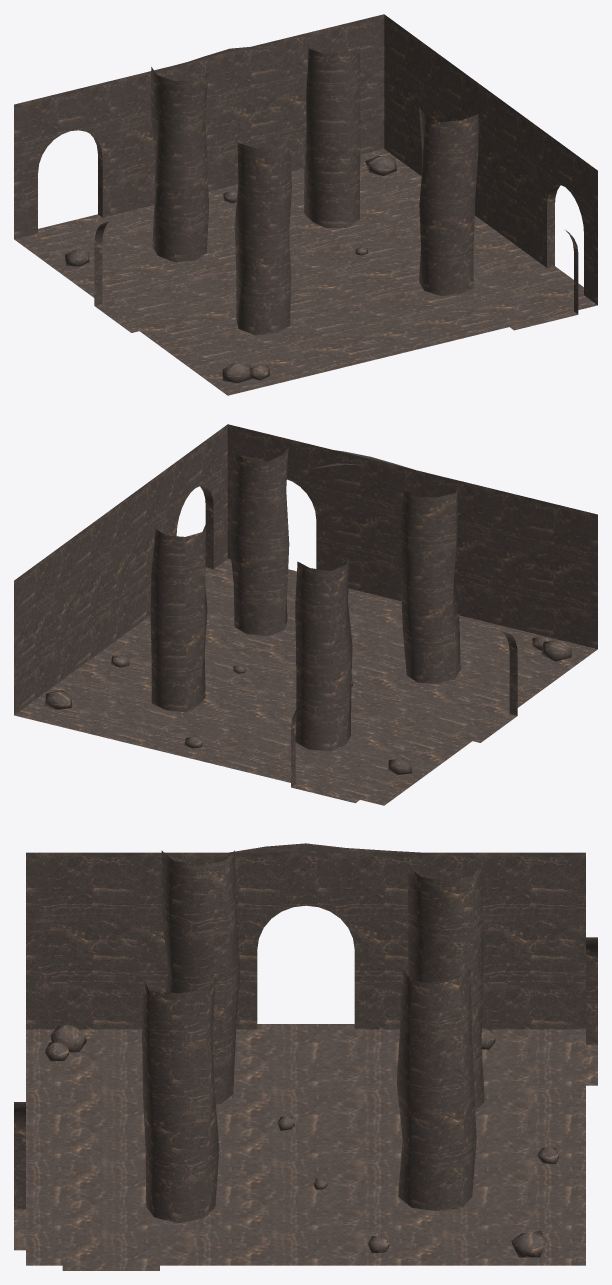
File: quarry-gallery.9de9de9a.gltf
3 views of the same model, one above another, from view 1: azimuth 30°, elevation 25°; view 2: azimuth 150°, elevation 25°; view 3: azimuth 270°, elevation 25° (orthographic). The views are drawn at different scales.
Parts seen in each view (by area): view 1: quarry-gallery-mesh; view 2: quarry-gallery-mesh; view 3: quarry-gallery-mesh.
Part boxes in pixels (x1,y1,x2,y2): quarry-gallery-mesh: (14,14,597,395); quarry-gallery-mesh: (14,424,597,805); quarry-gallery-mesh: (14,843,597,1270).
Bounding box in the file's own units: 12 × 6.16 × 12.
Materials: 1 (1 with a texture image).
